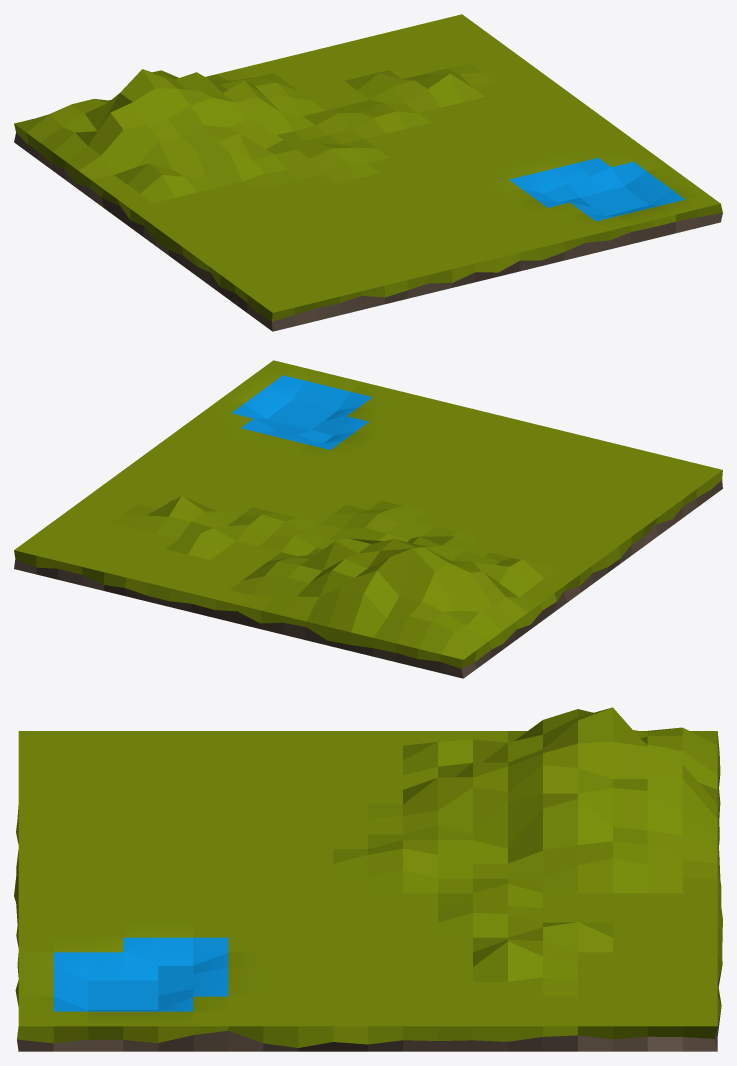
File: bese.fbx
The picture shows the model from 3 angles, top to bottom: view 1: azimuth 30°, elevation 25°; view 2: azimuth 150°, elevation 25°; view 3: azimuth 270°, elevation 25°; orthographic projection. The views are drawn at different scales.
Parts seen in each view (by area): view 1: pCube2; view 2: pCube2; view 3: pCube2.
Boxes of the visible parts, x1=… form: pCube2: x1=14, y1=14, x2=722, y2=331; pCube2: x1=14, y1=360, x2=722, y2=678; pCube2: x1=14, y1=707, x2=722, y2=1051.
Size of the model in its own units: 50.83 by 8.52 by 50.7.
